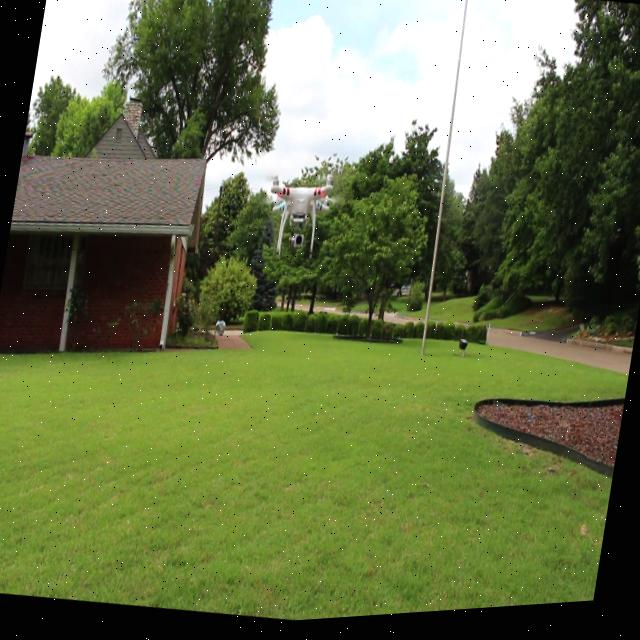drone: (255, 164, 340, 267)
